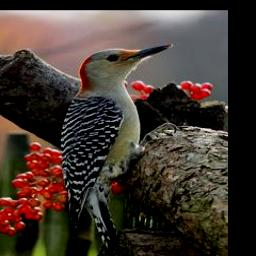Woodpecker: (60, 39, 180, 256)
